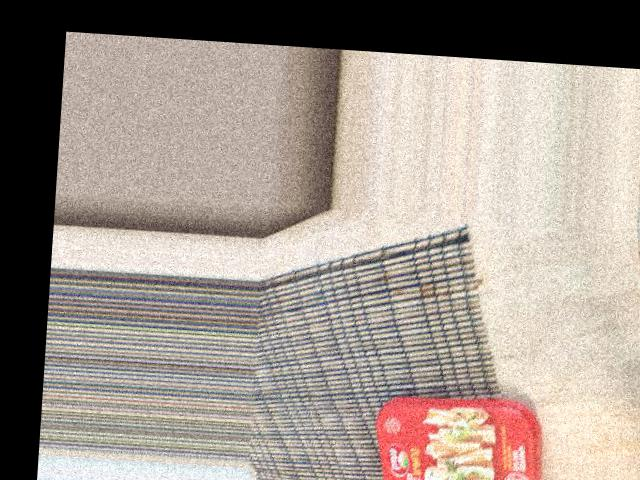cheese: (438, 230, 582, 412)
